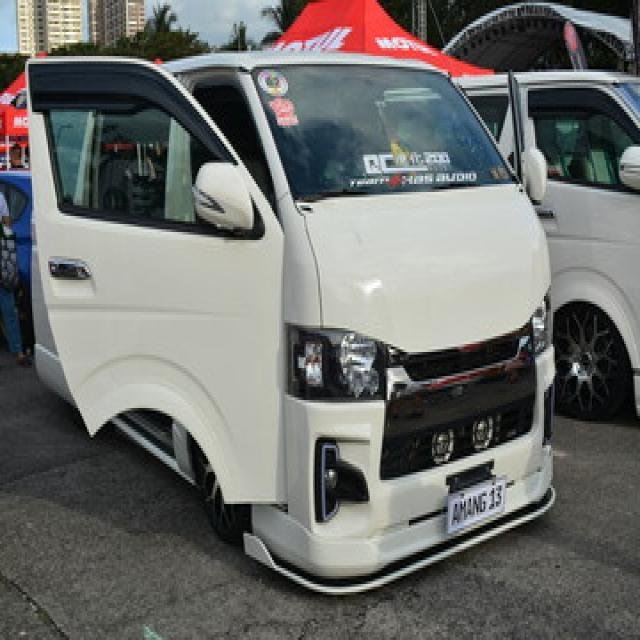van: (28, 53, 553, 592), (459, 69, 638, 419)
